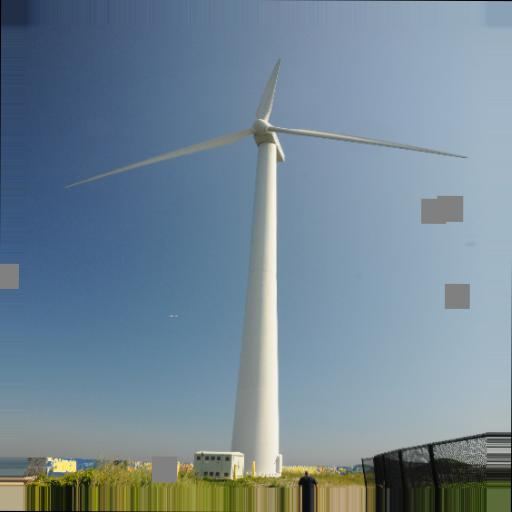wind turbine: (62, 58, 467, 466)
